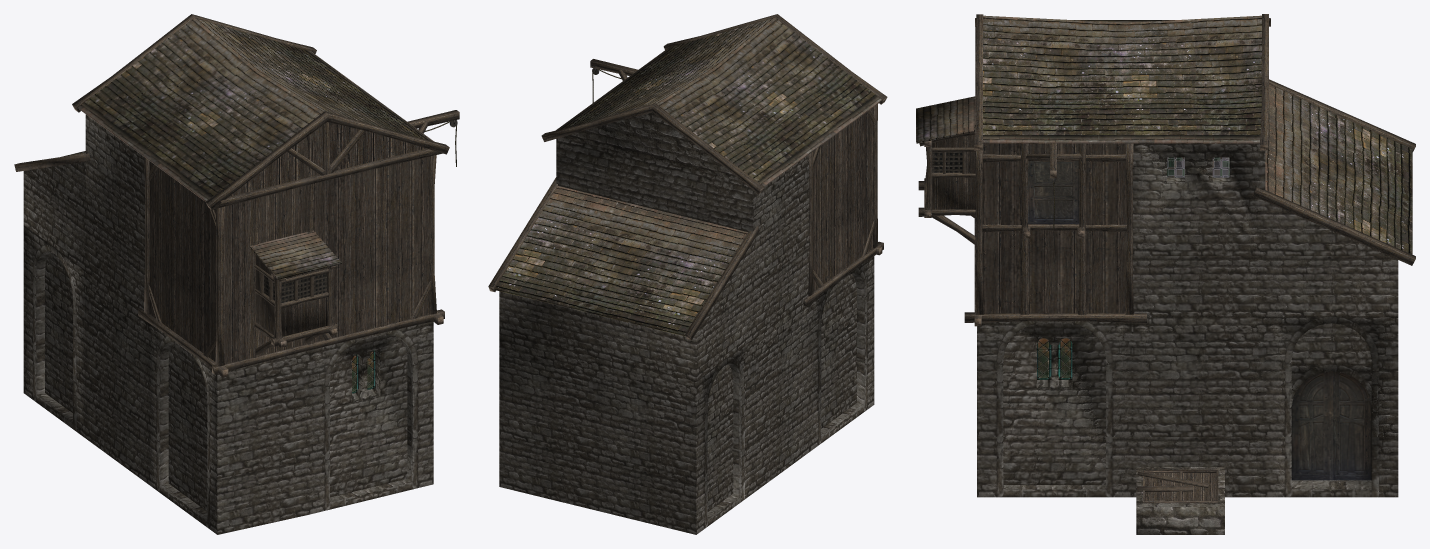
The model's file is gv_obj_oldcity_05.fbx.
The picture shows the model from 3 angles, left to right: view 1: azimuth 30°, elevation 25°; view 2: azimuth 150°, elevation 25°; view 3: azimuth 270°, elevation 25°; orthographic projection. The views are drawn at different scales.
Visible parts, largest first — view 1: BASE; view 2: BASE; view 3: BASE.
Part boxes in pixels (x1,y1,x2,y2): BASE: (14,14,459,534); BASE: (488,14,887,534); BASE: (916,14,1415,534).
Bounding box in the file's own units: 799 × 1088 × 1127.
